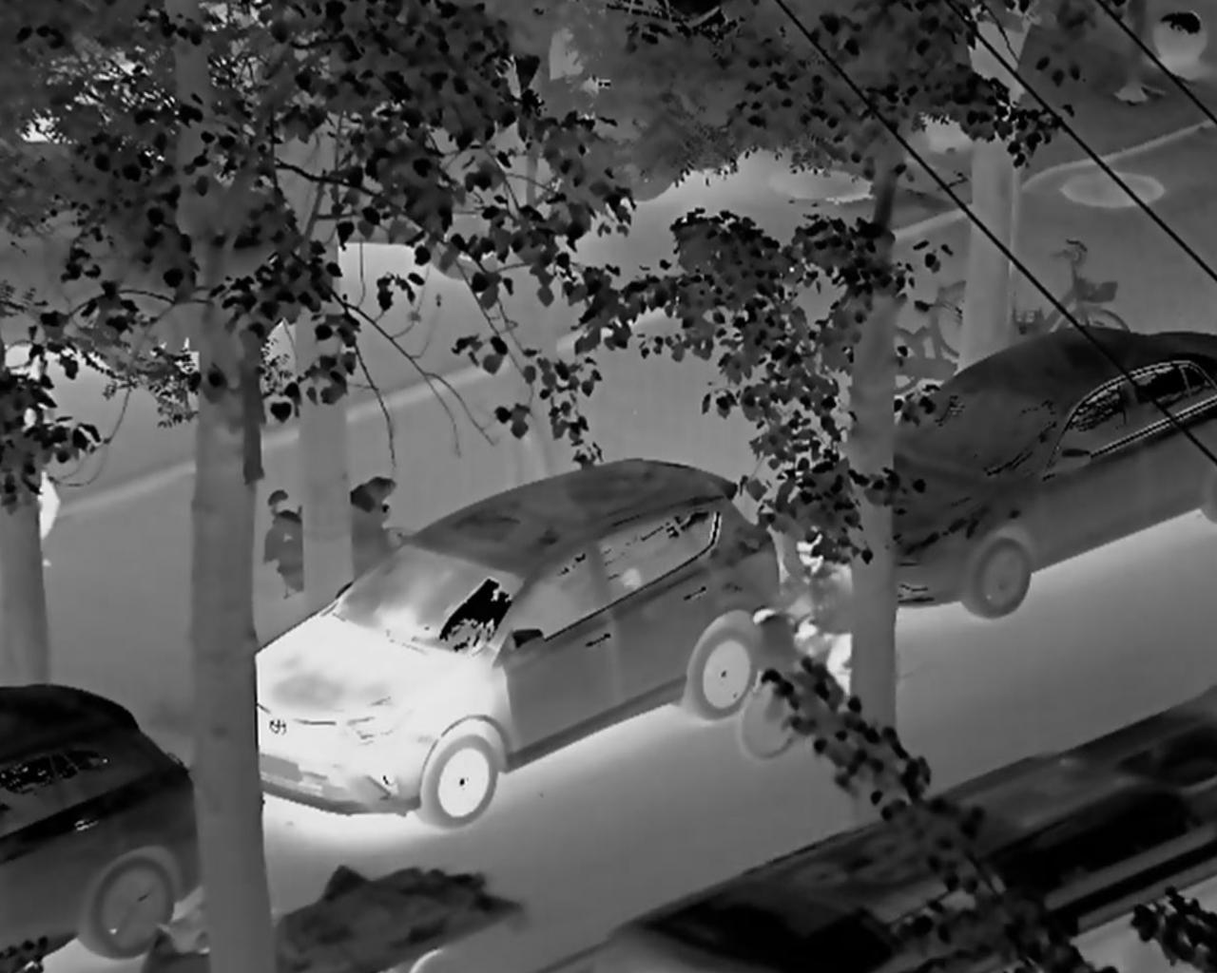person: (754, 521, 870, 756)
